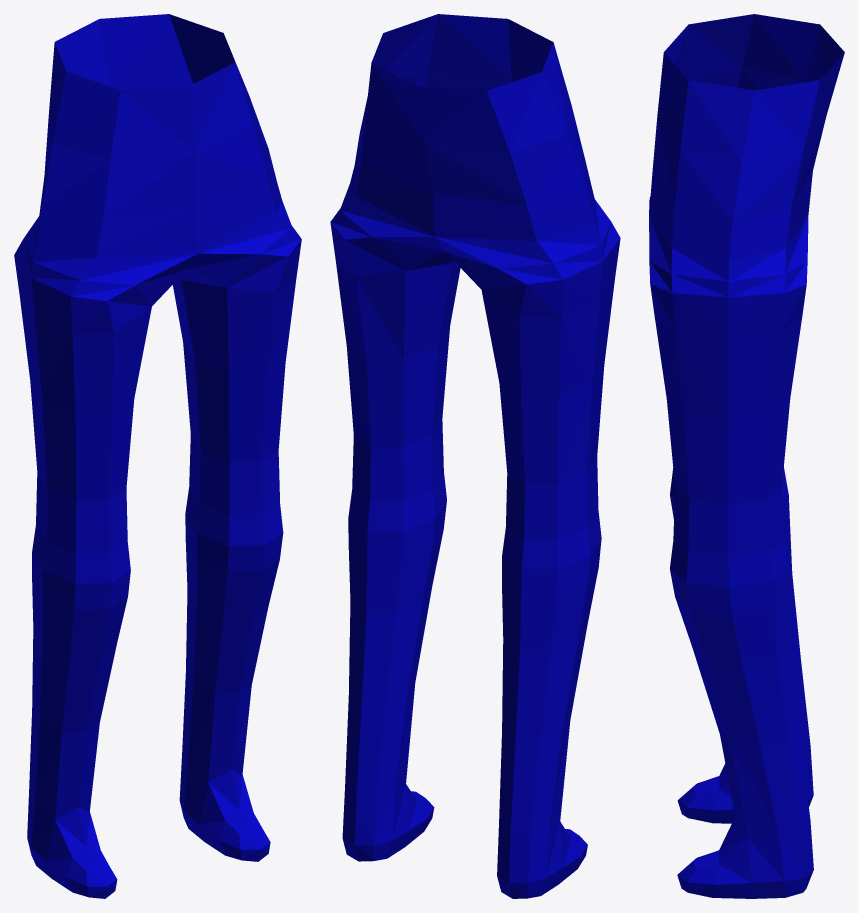
File: mike(B).obj
3 views of the same model, side by side, from view 1: azimuth 30°, elevation 25°; view 2: azimuth 150°, elevation 25°; view 3: azimuth 270°, elevation 25° (orthographic).
Parts seen in each view (by area): view 1: Blue_Cube.006; view 2: Blue_Cube.006; view 3: Blue_Cube.006.
Boxes of the visible parts, x1,y1,x2,y2 form: Blue_Cube.006: (14,14,301,898); Blue_Cube.006: (330,14,620,898); Blue_Cube.006: (649,14,844,898).
Bounding box in the file's own units: 1.12 × 3.43 × 0.7554.
